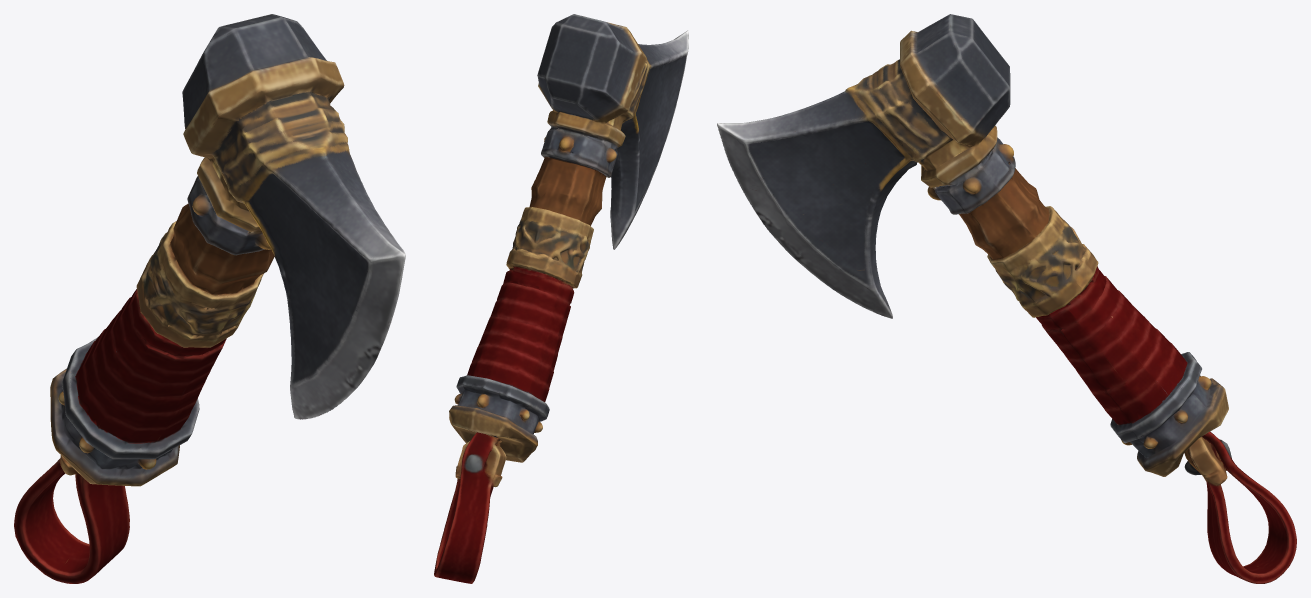
The model's file is 10_Dwarven_Throwing_Axe.glb.
3 renders of one model, left to right at view 1: azimuth 30°, elevation 25°; view 2: azimuth 150°, elevation 25°; view 3: azimuth 270°, elevation 25°, orthographic. The views are drawn at different scales.
Visible parts, largest first — view 1: world; view 2: world; view 3: world.
Part boxes in pixels (left/top/right/bottom): world: left=14, top=14, right=405, bottom=583; world: left=434, top=14, right=688, bottom=583; world: left=717, top=14, right=1296, bottom=583.
Size of the model in its own units: 0.192 by 1 by 0.9479.
1 material, 1 textured.
